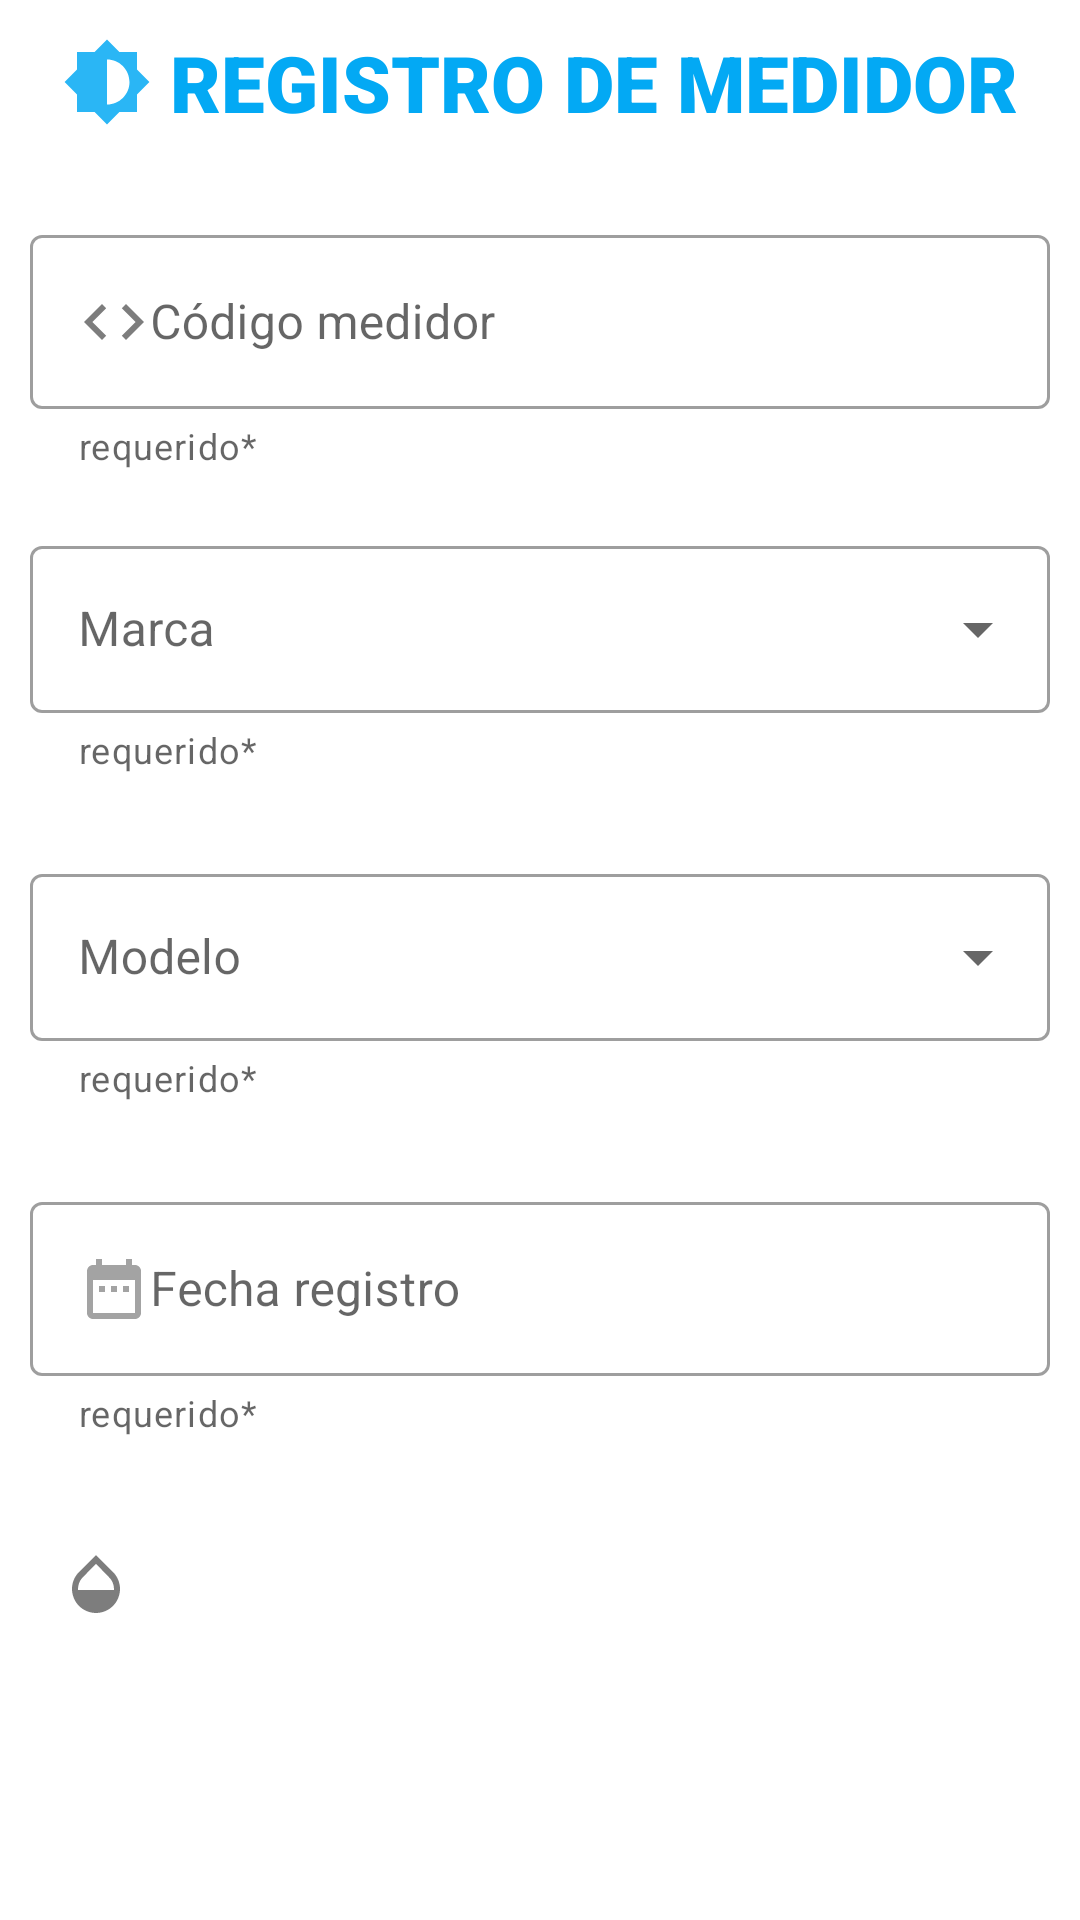

Named icons in this screenshot (1080 x 1920) and their bounding boxes, BBox(x1, y1, x2, y2):
brightness medium: BBox(65, 39, 149, 125)
